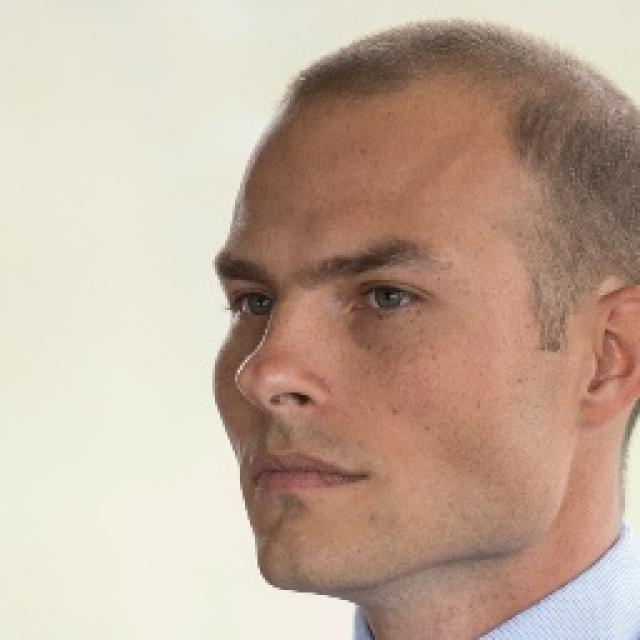earlobe: (579, 385, 615, 434)
eye: (346, 284, 426, 316), (224, 290, 272, 320)
nose: (254, 399, 327, 443)
wholeear: (579, 286, 640, 433)
